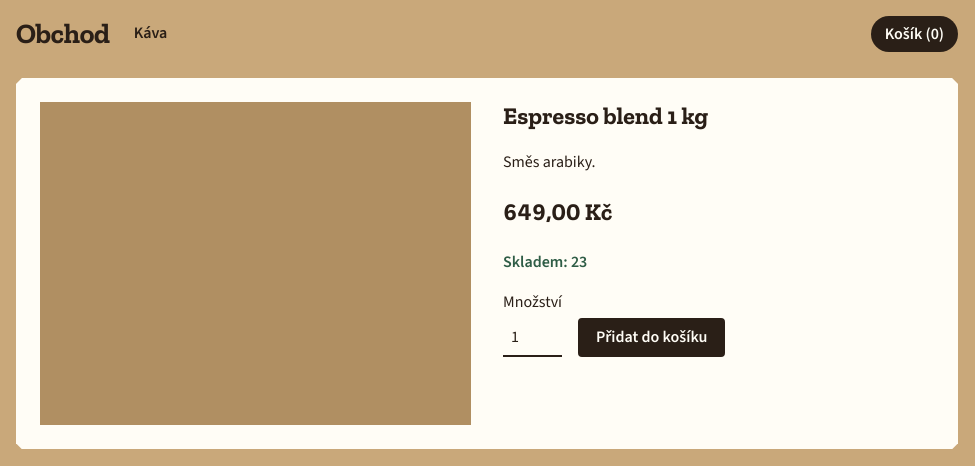
Test: adds to cart from the detail
Expected: the heading "Espresso blend 1 kg" is shown, [503, 101, 708, 130]
Expected: the link "Košík (0)" is shown, [871, 16, 958, 52]
Replace the text in the number field labelled "Množství" with "3": [533, 338] box [503, 318, 562, 357]
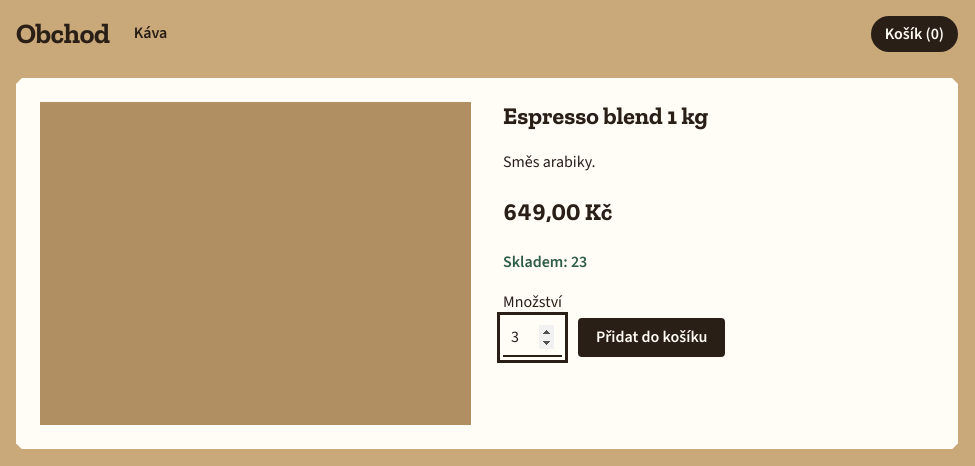
Click the button "Přidat do košíku": [652, 338] box [578, 318, 725, 357]
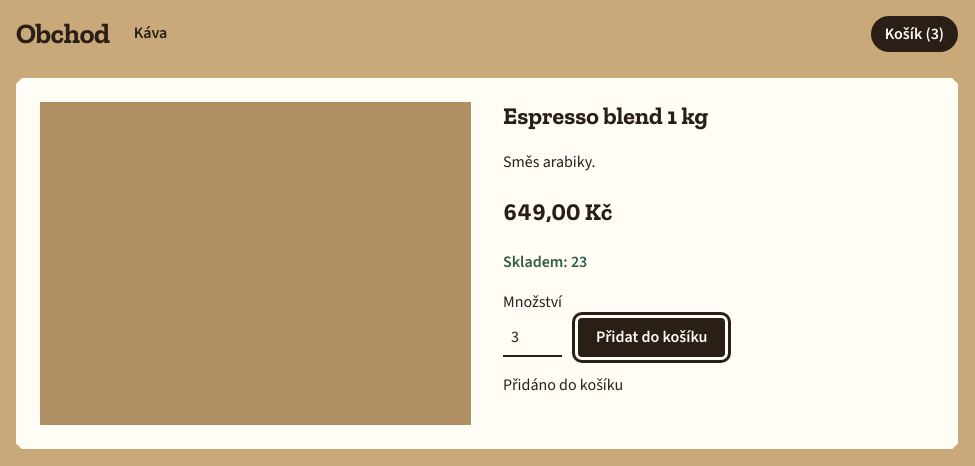
Result: the text "Přidáno do košíku" is shown at [503, 374, 623, 396]
Result: the link "Košík (3)" is shown at [871, 16, 958, 52]
